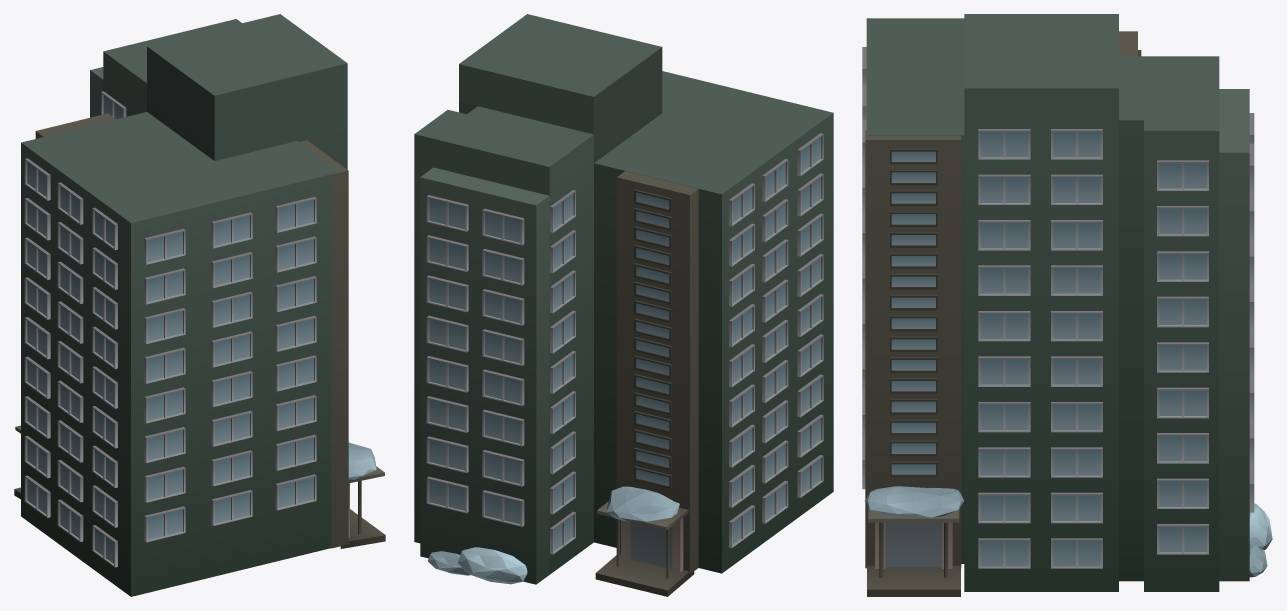
Rendered from SM_Panelki_Green.fbx.
3 views of the same model, side by side, from view 1: azimuth 30°, elevation 25°; view 2: azimuth 150°, elevation 25°; view 3: azimuth 270°, elevation 25° (orthographic). The views are drawn at different scales.
Parts seen in each view (by area): view 1: SM_Panelki_Green; view 2: SM_Panelki_Green; view 3: SM_Panelki_Green.
Boxes of the visible parts, x1=… form: SM_Panelki_Green: x1=14, y1=14, x2=385, y2=596; SM_Panelki_Green: x1=414, y1=14, x2=833, y2=596; SM_Panelki_Green: x1=862, y1=14, x2=1272, y2=596.
Bounding box in the file's own units: 2198 × 3530 × 2570.
